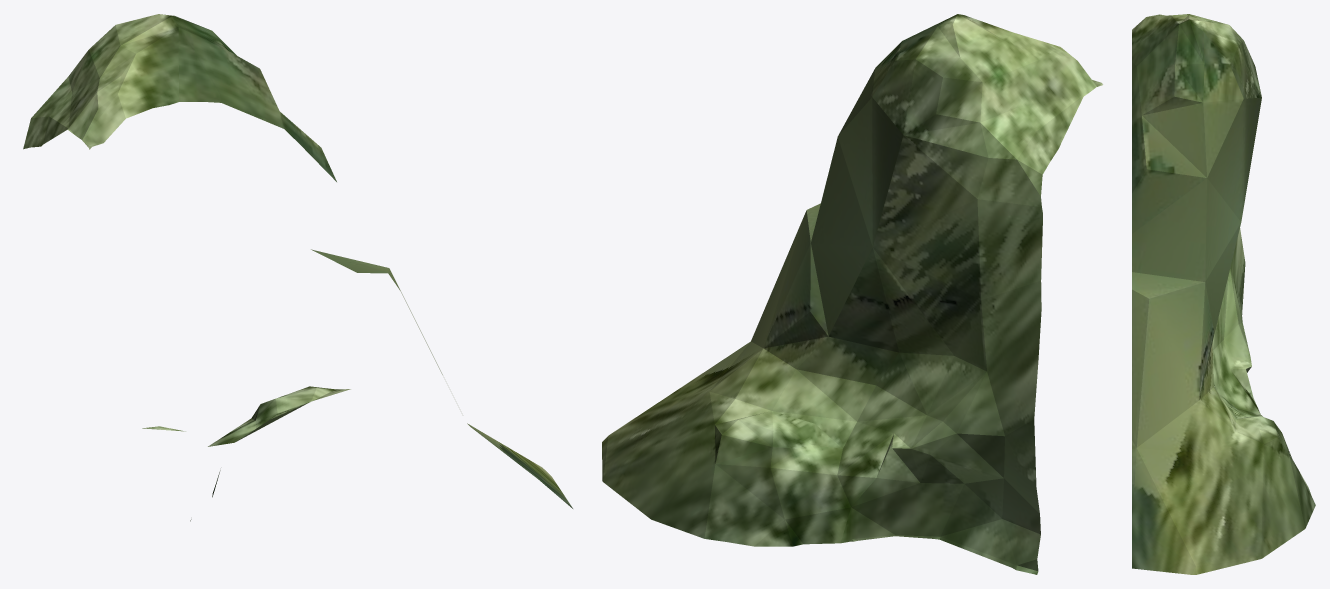
The picture shows the model from 3 angles, left to right: view 1: azimuth 30°, elevation 25°; view 2: azimuth 150°, elevation 25°; view 3: azimuth 270°, elevation 25°; orthographic projection. The views are drawn at different scales.
Size of the model in its own units: 2.32 by 2.45 by 0.9839.
2 materials, 2 textured.
